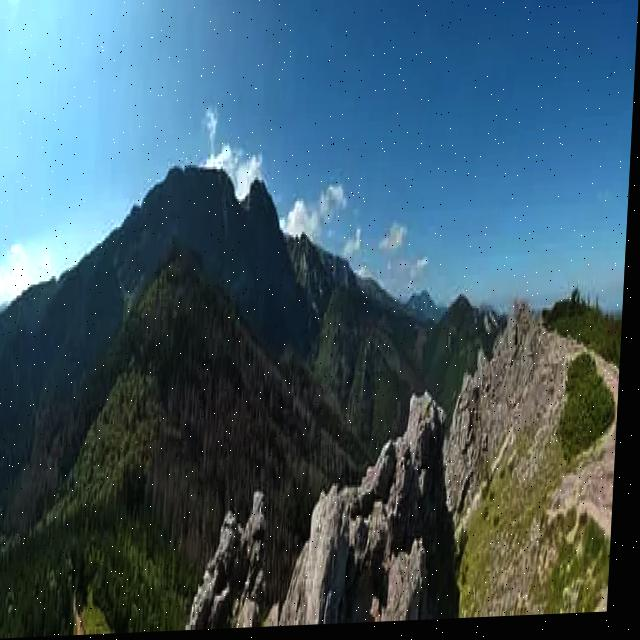Giewont: (217, 101, 299, 260)
Maly giewont: (265, 163, 339, 317)
Volovec: (395, 241, 453, 340)
